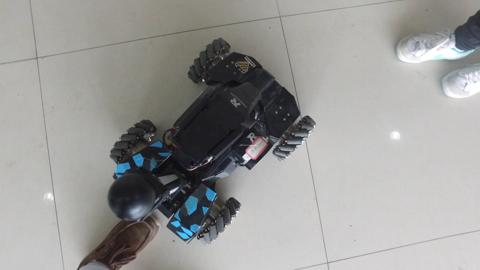chariot: (105, 40, 305, 234)
